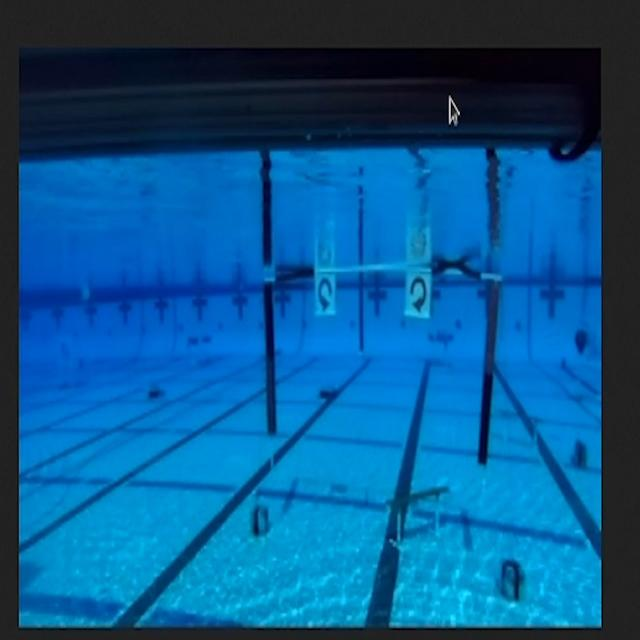Gate: (250, 244, 510, 476)
Path: (377, 476, 459, 556)
